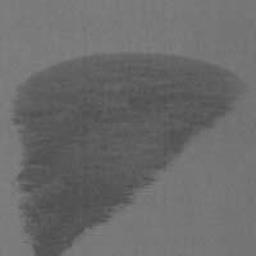Oil spot: (8, 50, 247, 256)
